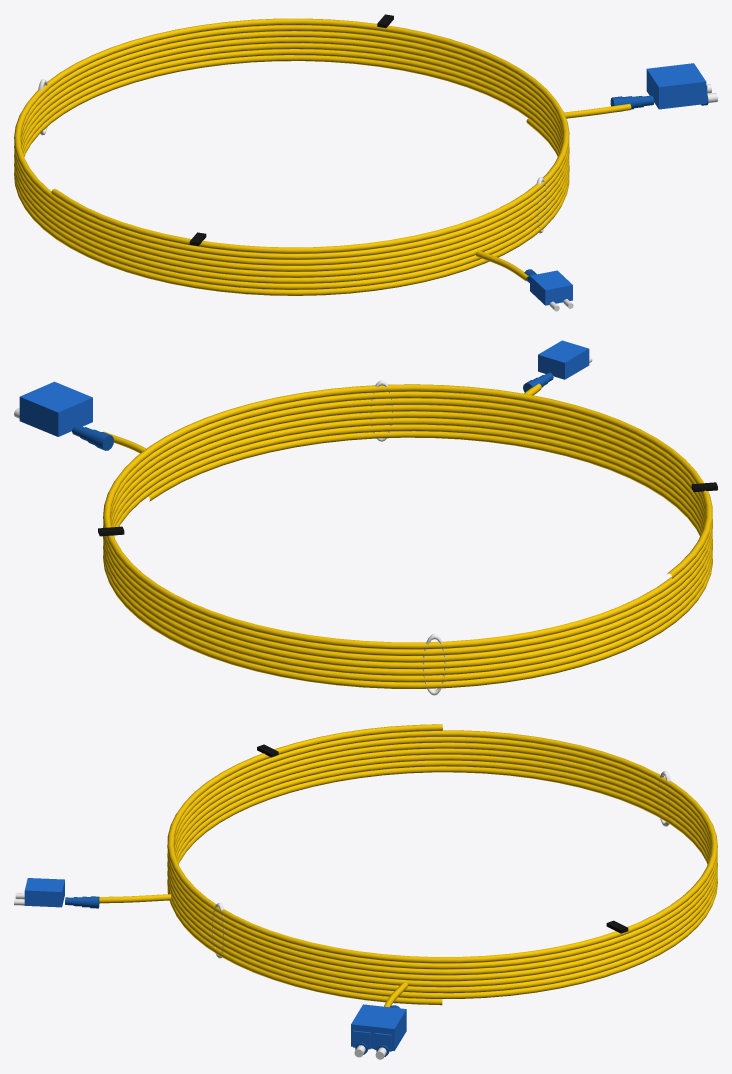
File: 06-fiber-patch-cord-duplex-yellow-coil.glb
The picture shows the model from 3 angles, top to bottom: view 1: azimuth 30°, elevation 25°; view 2: azimuth 150°, elevation 25°; view 3: azimuth 270°, elevation 25°; orthographic projection. The views are drawn at different scales.
Bounding box in the file's own units: 0.3837 × 0.0326 × 0.3753.
